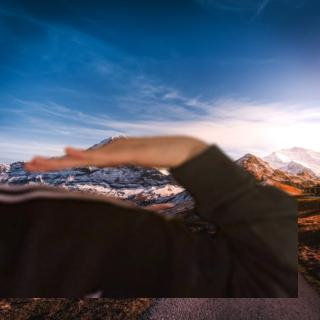WAIT: (16, 128, 210, 179)
